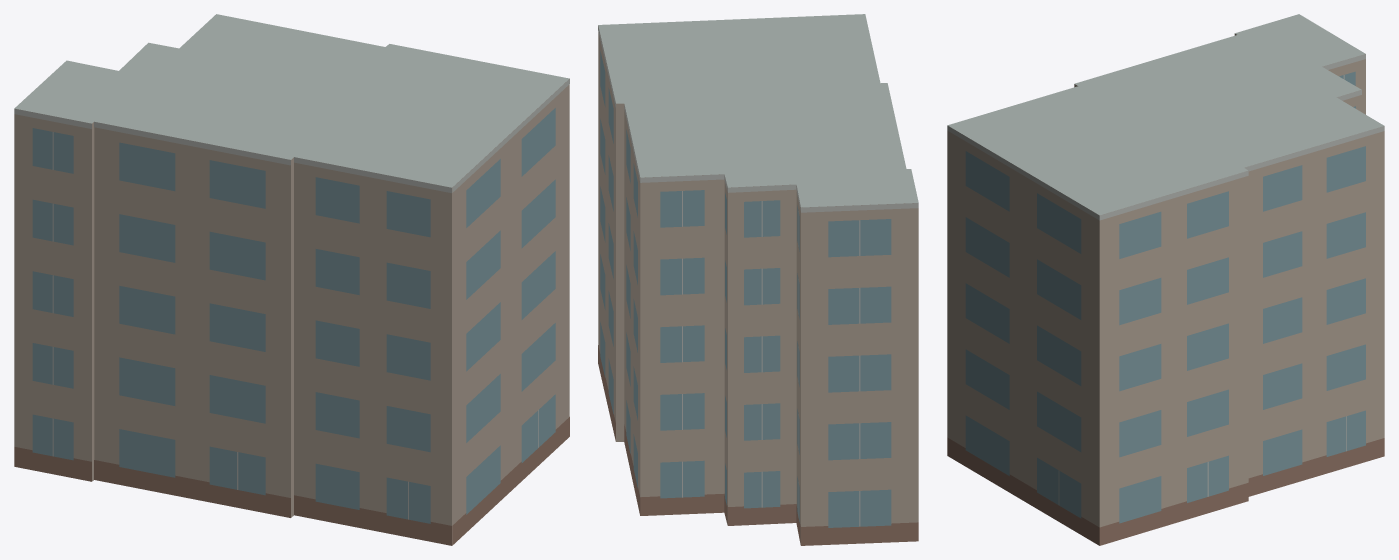
The model's file is survey-upis-32940121.glb.
3 renders of one model, left to right at view 1: azimuth 30°, elevation 25°; view 2: azimuth 150°, elevation 25°; view 3: azimuth 270°, elevation 25°, orthographic. The views are drawn at different scales.
Parts seen in each view (by area): view 1: survey-upis-32940121.tmp; view 2: survey-upis-32940121.tmp; view 3: survey-upis-32940121.tmp.
Part boxes in pixels (x1=…): survey-upis-32940121.tmp: x1=14, y1=14, x2=569, y2=545; survey-upis-32940121.tmp: x1=598, y1=14, x2=918, y2=545; survey-upis-32940121.tmp: x1=947, y1=14, x2=1384, y2=545.
Size of the model in its own units: 20.55 by 15.71 by 18.85.
